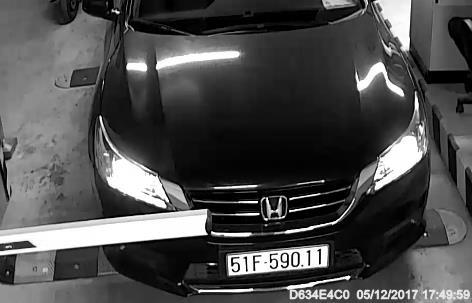License-plate: (223, 242, 334, 277)
